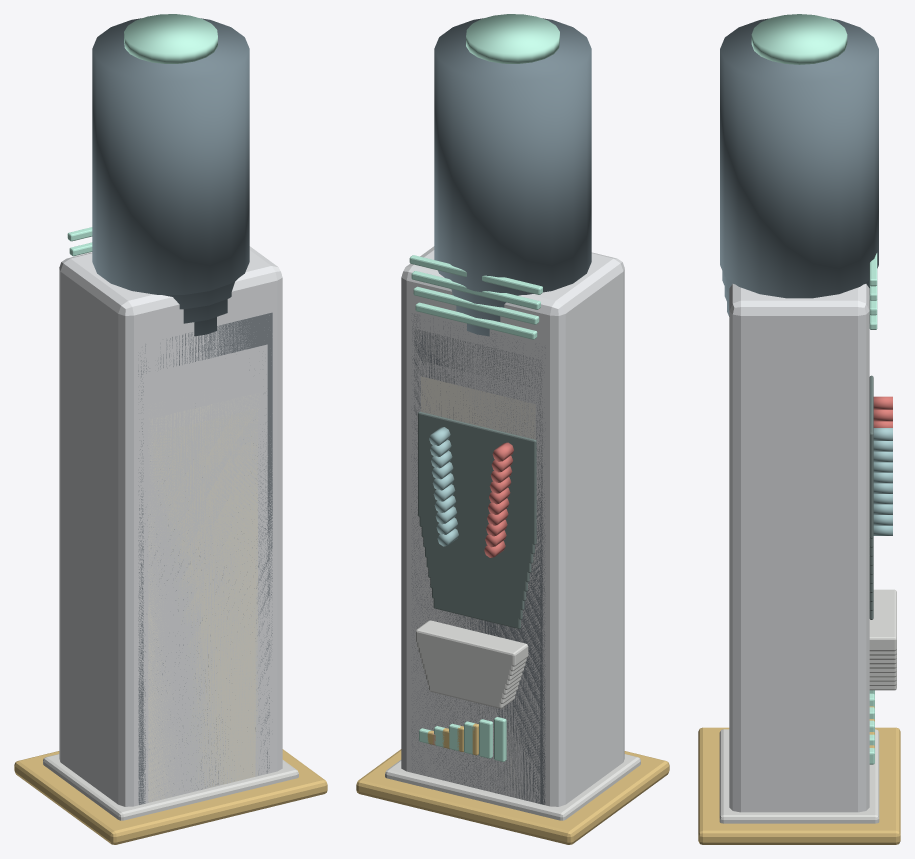
The model's file is Gear02.fbx.
3 renders of one model, left to right at view 1: azimuth 30°, elevation 25°; view 2: azimuth 150°, elevation 25°; view 3: azimuth 270°, elevation 25°, orthographic.
Parts seen in each view (by area): view 1: Gear02_V10_Platinum, Gear02_V10_Glass, Gear02_V6_Platinum, Gear02_V2_Ivory, Gear02_V5_Platinum, Gear02_V1_Ivory, Gear02_V10_Gold, Gear02_V8_Graphite, Gear02_V10_Glow, Gear02_V4_Linen, Gear02_V7_Graphite, Gear02_V9_Gold (+9 smaller); view 2: Gear02_V10_Platinum, Gear02_V10_Glass, Gear02_V7_Graphite, Gear02_V6_Platinum, Gear02_V10_Gold, Gear02_V9_Platinum, Gear02_V10_Glow, Gear02_V9_Ink, Gear02_V10_Chrome, Gear02_V1_Ink, Gear02_V8_Ink, Gear02_V4_Linen (+17 smaller); view 3: Gear02_V10_Platinum, Gear02_V10_Glass, Gear02_V10_Gold, Gear02_V10_Glow, Gear02_V10_Chrome, Gear02_V9_Gold, Gear02_V10_Ink, Gear02_V5_Chrome, Gear02_V8_Chrome, Gear02_V6_Chrome, Gear02_V9_Chrome.
Part boxes in pixels (x1,y1,x2,y2): Gear02_V10_Platinum: [59, 246, 282, 806]; Gear02_V10_Glass: [92, 18, 249, 294]; Gear02_V6_Platinum: [143, 344, 267, 803]; Gear02_V2_Ivory: [153, 408, 257, 781]; Gear02_V5_Platinum: [146, 380, 265, 803]; Gear02_V1_Ivory: [157, 452, 255, 790]; Gear02_V10_Gold: [14, 749, 327, 844]; Gear02_V8_Graphite: [138, 312, 272, 804]; Gear02_V10_Glow: [67, 14, 217, 241]; Gear02_V4_Linen: [148, 400, 204, 802]; Gear02_V7_Graphite: [141, 329, 269, 804]; Gear02_V9_Gold: [36, 752, 322, 843]; Gear02_V10_Platinum: [401, 246, 624, 806]; Gear02_V10_Glass: [434, 18, 591, 294]; Gear02_V7_Graphite: [414, 329, 542, 804]; Gear02_V6_Platinum: [417, 350, 540, 803]; Gear02_V10_Gold: [356, 749, 669, 844]; Gear02_V9_Platinum: [409, 296, 547, 805]; Gear02_V10_Glow: [409, 14, 559, 760]; Gear02_V9_Ink: [419, 424, 534, 554]; Gear02_V10_Chrome: [385, 620, 640, 820]; Gear02_V1_Ink: [433, 506, 520, 628]; Gear02_V8_Ink: [421, 442, 533, 563]; Gear02_V4_Linen: [421, 376, 535, 617]; Gear02_V10_Platinum: [729, 284, 869, 812]; Gear02_V10_Glass: [720, 18, 878, 298]; Gear02_V10_Gold: [698, 727, 900, 844]; Gear02_V10_Glow: [751, 14, 877, 764]; Gear02_V10_Chrome: [719, 589, 896, 823]; Gear02_V9_Gold: [698, 729, 899, 832]; Gear02_V10_Ink: [869, 375, 873, 538]; Gear02_V5_Chrome: [719, 667, 896, 811]; Gear02_V8_Chrome: [719, 654, 896, 815]; Gear02_V6_Chrome: [719, 662, 896, 790]; Gear02_V9_Chrome: [719, 649, 896, 775].
Size of the model in its own units: 64.96 by 215 by 52.
